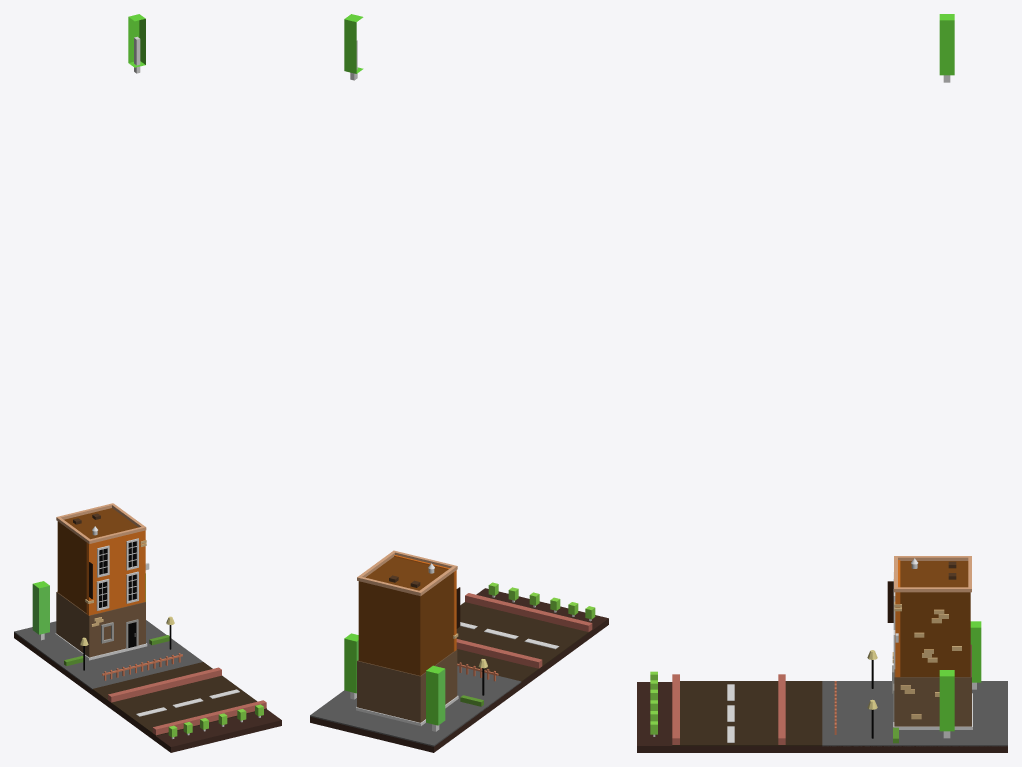
File: FirstBuild.glb
3 views of the same model, side by side, from view 1: azimuth 30°, elevation 25°; view 2: azimuth 150°, elevation 25°; view 3: azimuth 270°, elevation 25° (orthographic). The views are drawn at different scales.
Parts seen in each view (by area): view 1: Cube.003, Cube.002, Cube, Cube.004, Cube.001, Cube.005, Cube.018, Plane.004, Cube.006, Cube.031, Cube.025, Cube.026 (+1 smaller); view 2: Cube, Cube.003, Cube.002, Cube.004, Cube.001, Cube.018, Cube.006, Cube.025, Cube.026, Cube.037, Cube.024; view 3: Cube.003, Cube.002, Cube, Cube.001, Cube.004, Cube.018, Cube.006, Cube.024, Cube.025, Cube.029, Cube.037.
Boxes of the visible parts, <box> form: Cube.003: <box>92,662,266,735</box>; Cube.002: <box>14,620,202,689</box>; Cube: <box>57,508,138,612</box>; Cube.004: <box>56,591,145,657</box>; Cube.001: <box>14,633,281,752</box>; Cube.005: <box>86,530,145,615</box>; Cube.018: <box>108,667,266,735</box>; Plane.004: <box>96,538,138,610</box>; Cube.006: <box>56,503,146,543</box>; Cube.031: <box>32,584,49,634</box>; Cube.025: <box>128,14,145,67</box>; Cube.026: <box>168,704,263,737</box>; Cube: <box>358,556,453,675</box>; Cube.003: <box>456,602,592,681</box>; Cube.002: <box>310,666,521,746</box>; Cube.004: <box>357,650,457,722</box>; Cube.001: <box>310,588,608,752</box>; Cube.018: <box>456,593,592,668</box>; Cube.006: <box>357,550,457,596</box>; Cube.025: <box>344,14,363,73</box>; Cube.026: <box>488,582,595,619</box>; Cube.037: <box>426,665,444,725</box>; Cube.024: <box>344,633,358,693</box>; Cube.003: <box>672,681,822,746</box>; Cube.002: <box>822,681,1007,746</box>; Cube: <box>900,561,970,676</box>; Cube.001: <box>637,682,1007,752</box>; Cube.004: <box>894,644,971,726</box>; Cube.018: <box>672,674,785,744</box>; Cube.006: <box>894,556,971,592</box>; Cube.024: <box>939,670,954,731</box>; Cube.025: <box>939,14,954,75</box>; Cube.029: <box>892,601,961,719</box>; Cube.037: <box>970,621,981,682</box>.
Bounding box in the file's own units: 40.04 × 212 × 97.99.
